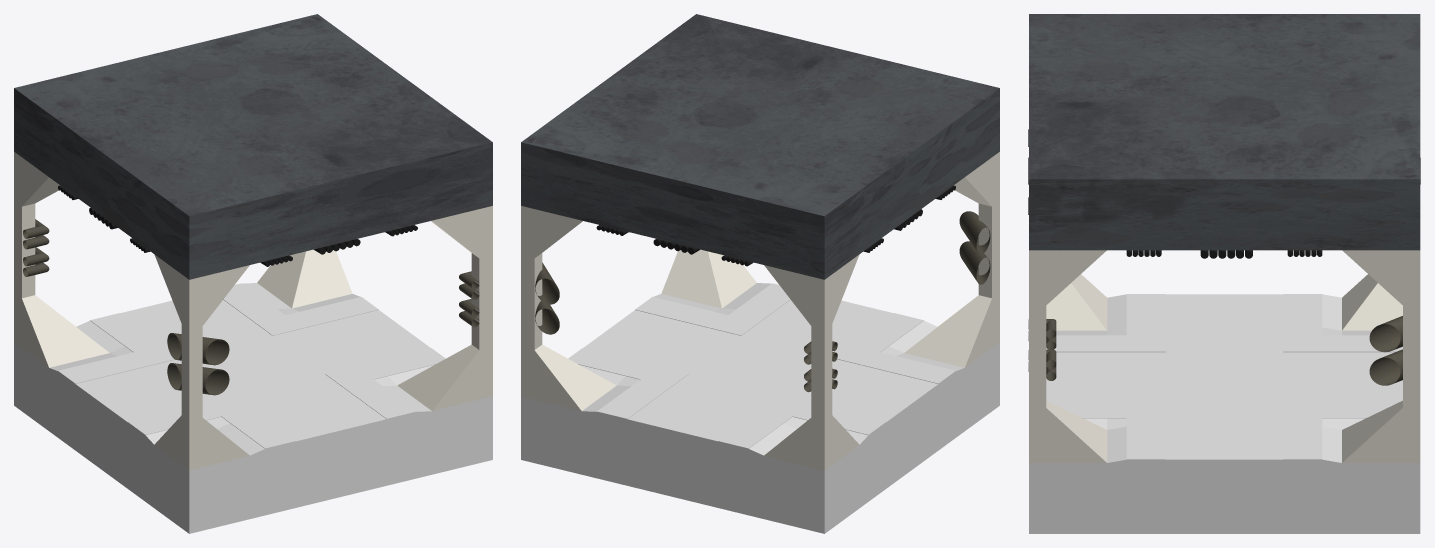
File: HallwayConnector4.fbx
3 views of the same model, side by side, from view 1: azimuth 30°, elevation 25°; view 2: azimuth 150°, elevation 25°; view 3: azimuth 270°, elevation 25° (orthographic). The views are drawn at different scales.
Visible parts, largest first — view 1: Cube.042, Cube.043, Cube.044, Cylinder.010, Elbow Joint.003, Cable_Small.014; view 2: Cube.042, Cube.043, Cube.044, Cylinder.010, Cable_Small.014; view 3: Cube.042, Cube.043, Cube.044, Cylinder.010, Cable_Small.015, Elbow Joint.003.
Boxes of the visible parts, x1,y1,x2,y2 form: Cube.042: [14, 14, 492, 279]; Cube.043: [14, 283, 492, 533]; Cube.044: [14, 152, 492, 470]; Cylinder.010: [167, 333, 229, 395]; Elbow Joint.003: [23, 219, 479, 327]; Cable_Small.014: [260, 225, 417, 266]; Cube.042: [521, 14, 999, 279]; Cube.043: [521, 283, 999, 533]; Cube.044: [521, 152, 999, 470]; Cylinder.010: [535, 211, 990, 334]; Cable_Small.014: [596, 225, 753, 266]; Cube.042: [1029, 14, 1420, 250]; Cube.043: [1029, 294, 1420, 533]; Cube.044: [1029, 250, 1420, 462]; Cylinder.010: [1369, 316, 1402, 385]; Cable_Small.015: [1126, 250, 1322, 258]; Elbow Joint.003: [1028, 319, 1056, 380].
Bounding box in the file's own units: 1004 × 1000 × 1003.
